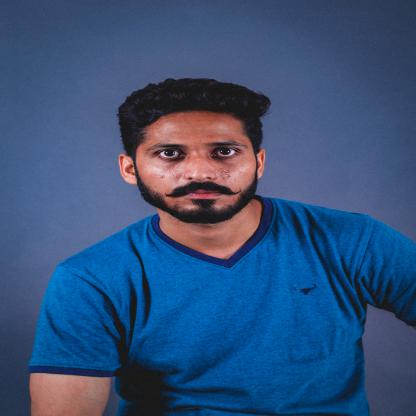Eye: (211, 146, 242, 159), (155, 149, 185, 161)
Mouth: (183, 189, 224, 199)
Nose: (184, 156, 216, 180)
